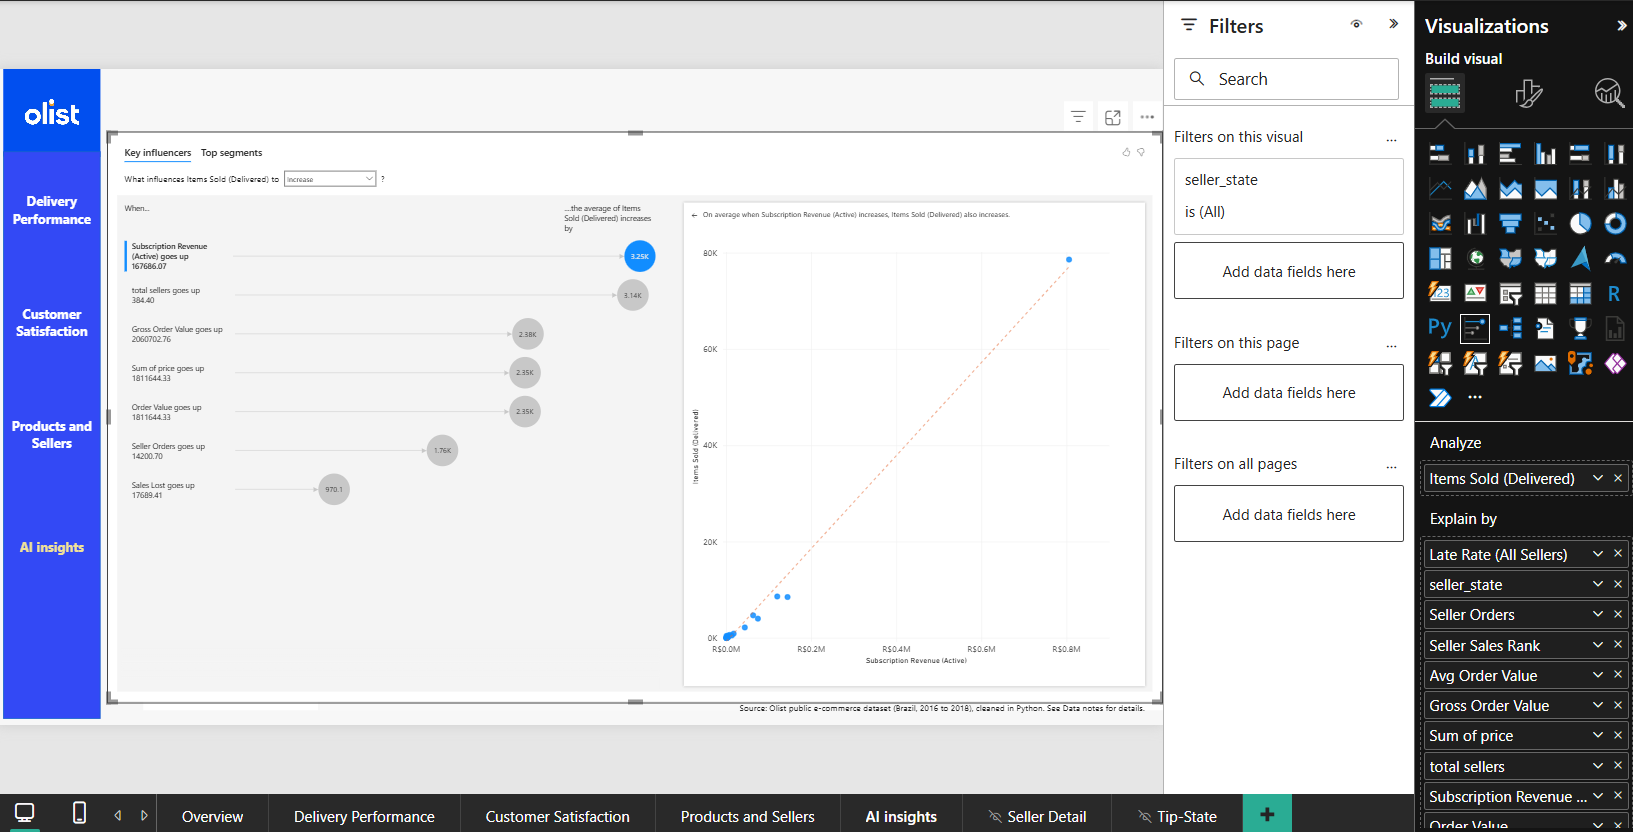

The dashboard page shown, as its layout file describes it:
{"tool":"powerbi","page":{"name":"AI insights","canvas":[1920,1080],"ordinal":4},"visuals":[{"type":"image","box":[10,0,160,144],"z":1000},{"type":"shape","box":[10,136,160,934],"z":2000},{"type":"pageNavigator","box":[10,144,160,734],"z":3000},{"type":"textbox","box":[1222.5,1042.5,672.5,25],"z":4000},{"type":"keyDriversVisual","fields":{"ExplainBy":["sellers.Late Rate (All Sellers)","sellers.seller_state","sellers.Seller Orders","sellers.Seller Sales Rank","orders.Avg Order Value","order_items.Gross Order Value","Sum(order_items.price)","order_items.total sellers","order_items.Subscription Revenue (Active)","order_items.Order Value","order_items.Late delivery rate","order_items.Sales Lost"],"Target":["sellers.Items Sold (Delivered)"]},"box":[182,103.8,1738.8,939.1],"z":5000}]}

Visuals, with their boxes on the page's 1920x1080 design canvas (x1, y1, x2, y2). These are canvas units, not pixel positions in the 1633x832 screenshot, which may show the page scaled, cropped or inside an application window:
image: <box>10,0,170,144</box>
shape: <box>10,136,170,1070</box>
pageNavigator: <box>10,144,170,878</box>
textbox: <box>1222,1042,1895,1068</box>
keyDriversVisual - sellers.Late Rate (All Sellers) x sellers.seller_state: <box>182,104,1921,1043</box>
